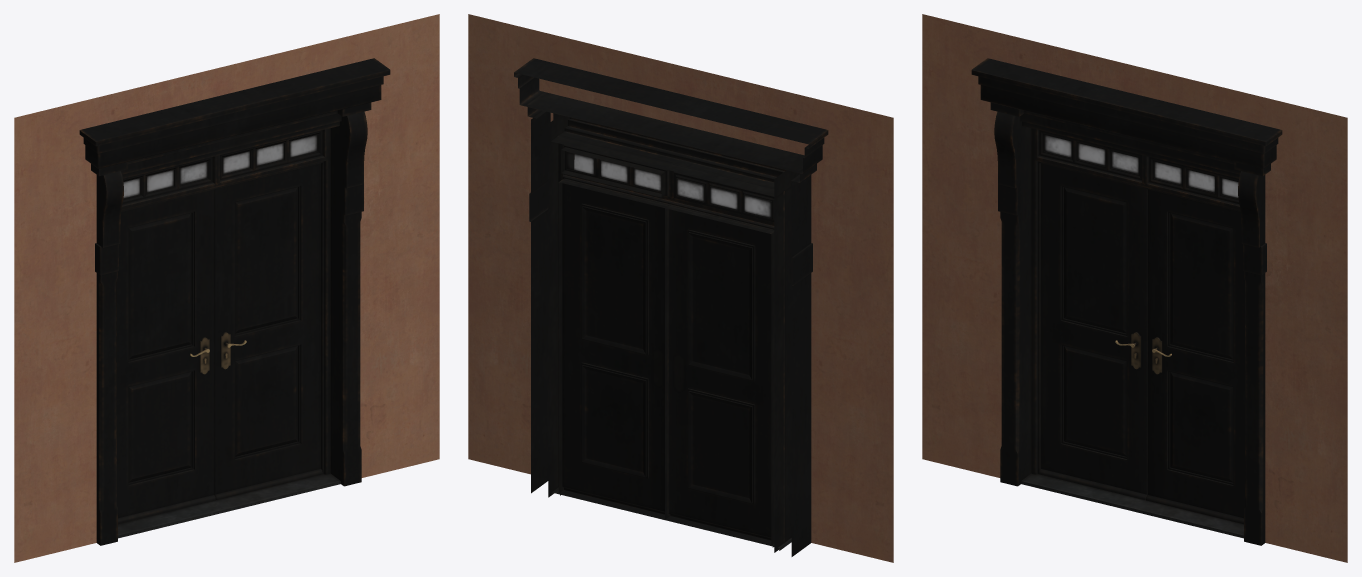
Rendered from wall_door_centered_large_01.glb.
3 views of the same model, side by side, from view 1: azimuth 30°, elevation 25°; view 2: azimuth 150°, elevation 25°; view 3: azimuth 330°, elevation 25° (orthographic).
Visible parts, largest first — view 1: door_centered_large_01, wall_door_centered_large_01; view 2: door_centered_large_01, wall_door_centered_large_01; view 3: door_centered_large_01, wall_door_centered_large_01.
Part boxes in pixels (<box>): door_centered_large_01: <box>79,58,390,545</box>; wall_door_centered_large_01: <box>14,14,439,562</box>; door_centered_large_01: <box>514,58,828,556</box>; wall_door_centered_large_01: <box>468,14,893,562</box>; door_centered_large_01: <box>971,58,1282,545</box>; wall_door_centered_large_01: <box>922,14,1347,562</box>.
Size of the model in its own units: 3 by 3 by 0.44.
3 materials, 3 textured.
